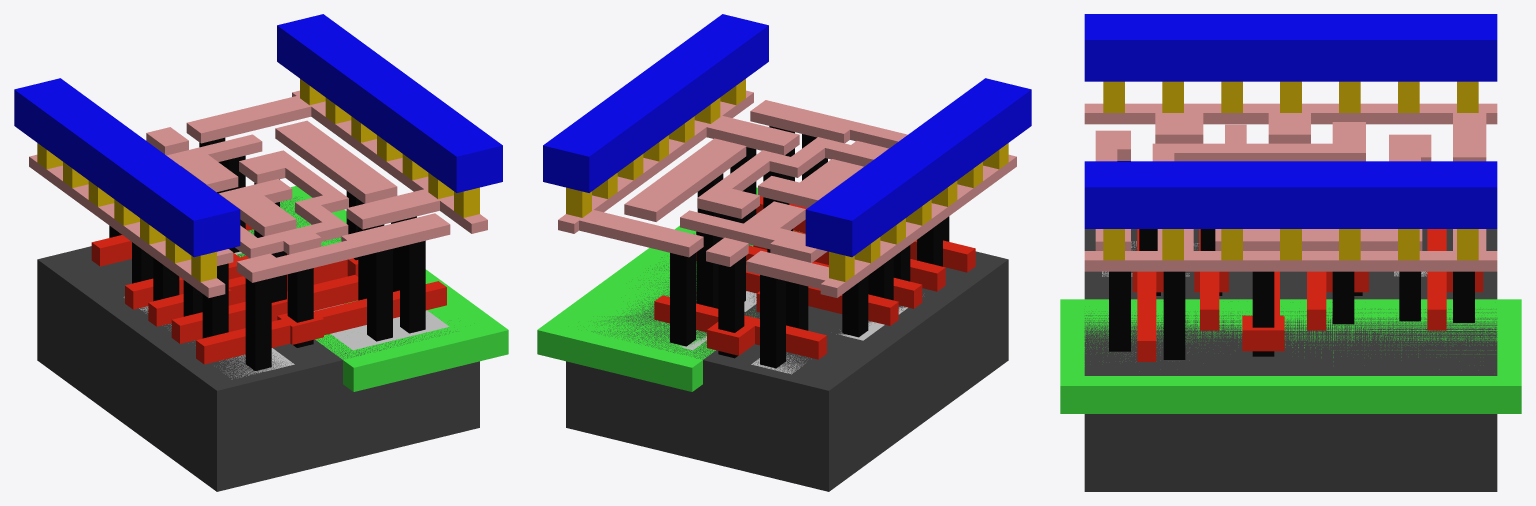
The model's file is sky130_fd_sc_hd__or3b_1.obj.
The picture shows the model from 3 angles, left to right: view 1: azimuth 30°, elevation 25°; view 2: azimuth 150°, elevation 25°; view 3: azimuth 270°, elevation 25°; orthographic projection. The views are drawn at different scales.
Parts seen in each view (by area): view 1: subs, metal1, li, licon, poly, nwell, mcon, tap, diff; view 2: subs, metal1, li, licon, nwell, poly, mcon, diff; view 3: subs, metal1, nwell, li, mcon, licon, poly.
Boxes of the visible parts, x1=… form: subs: x1=37, y1=197, x2=479, y2=491; metal1: x1=14, y1=14, x2=502, y2=257; li: x1=29, y1=90, x2=487, y2=297; licon: x1=109, y1=137, x2=425, y2=370; poly: x1=91, y1=223, x2=446, y2=364; nwell: x1=236, y1=186, x2=508, y2=391; mcon: x1=37, y1=79, x2=479, y2=281; tap: x1=234, y1=251, x2=449, y2=350; diff: x1=123, y1=296, x2=294, y2=379; subs: x1=566, y1=230, x2=1008, y2=491; metal1: x1=543, y1=14, x2=1031, y2=257; li: x1=558, y1=90, x2=1016, y2=297; licon: x1=670, y1=126, x2=949, y2=368; nwell: x1=537, y1=187, x2=799, y2=391; poly: x1=654, y1=196, x2=975, y2=359; mcon: x1=566, y1=79, x2=1008, y2=281; diff: x1=751, y1=306, x2=907, y2=374; subs: x1=1084, y1=229, x2=1497, y2=491; metal1: x1=1084, y1=14, x2=1497, y2=228; nwell: x1=1060, y1=299, x2=1521, y2=413; li: x1=1084, y1=103, x2=1497, y2=271; mcon: x1=1103, y1=81, x2=1478, y2=260; licon: x1=1109, y1=161, x2=1474, y2=359; poly: x1=1132, y1=229, x2=1483, y2=361.
Bounding box in the file's own units: 3.2 × 2.74 × 3.6.
